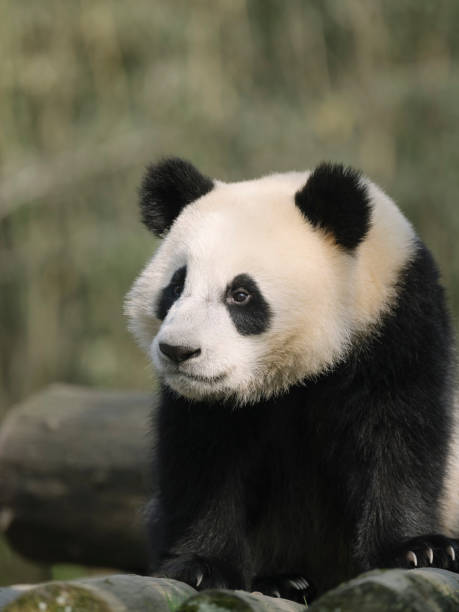panda: (98, 130, 424, 409)
